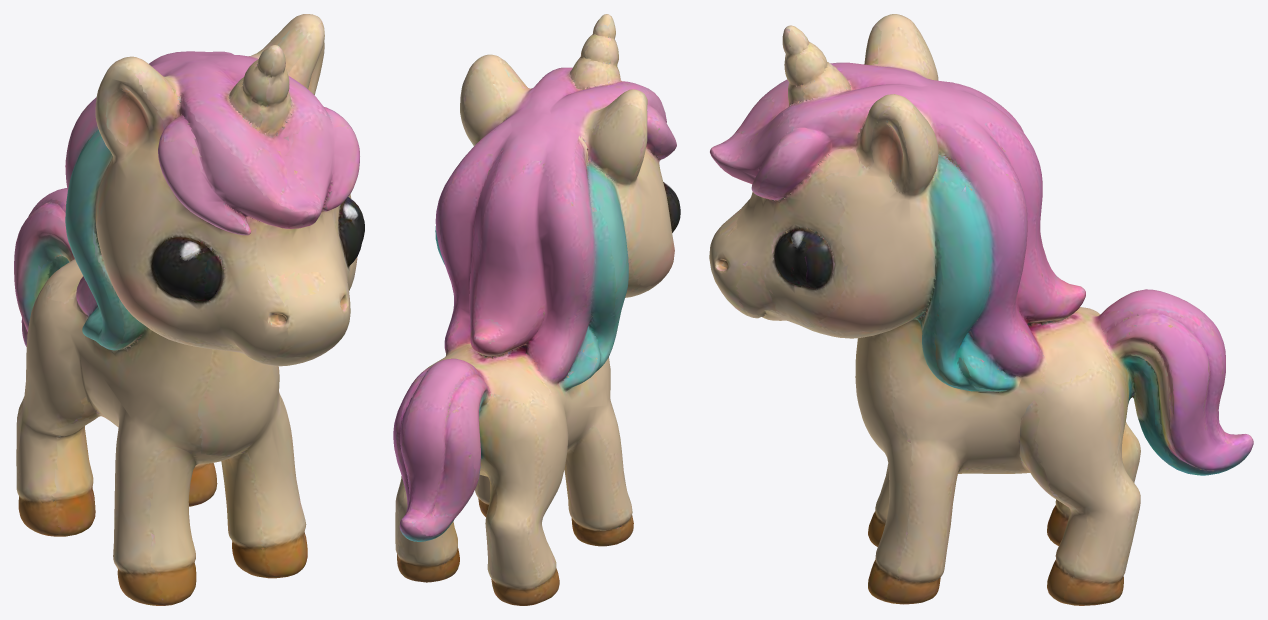
3 renders of one model, left to right at view 1: azimuth 30°, elevation 25°; view 2: azimuth 150°, elevation 25°; view 3: azimuth 270°, elevation 25°, orthographic. The views are drawn at different scales.
Parts seen in each view (by area): view 1: char1; view 2: char1; view 3: char1.
Boxes of the visible parts, bbox=[...] form: char1: bbox=[14, 14, 364, 605]; char1: bbox=[393, 14, 680, 605]; char1: bbox=[709, 14, 1253, 605].
Size of the model in its own units: 6.97e-05 by 0.000167 by 0.000152.
1 material, 1 textured.
